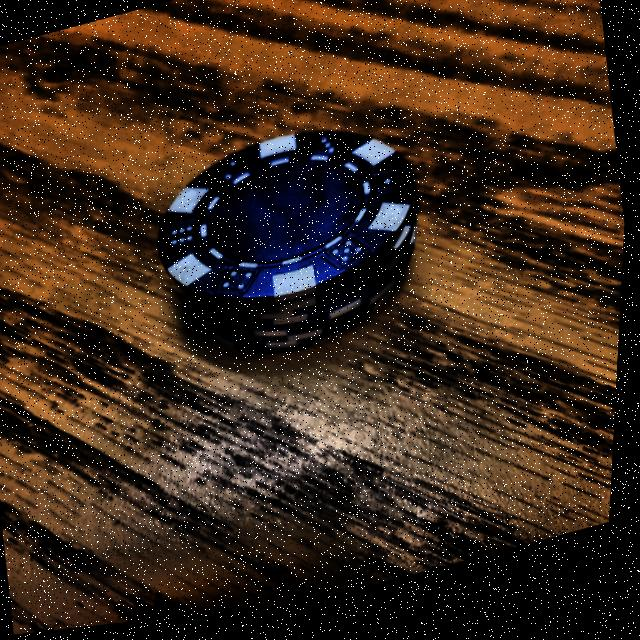Chip: (109, 90, 475, 413)
